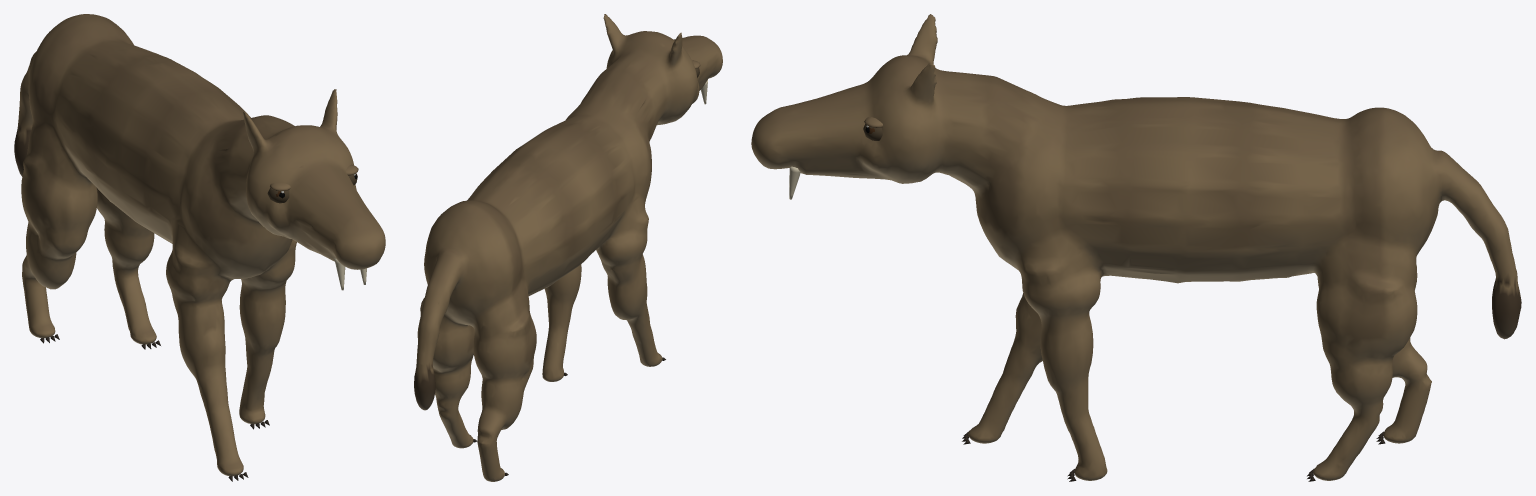
The model's file is EpicyonHaydeni.fbx.
3 renders of one model, left to right at view 1: azimuth 30°, elevation 25°; view 2: azimuth 150°, elevation 25°; view 3: azimuth 270°, elevation 25°, orthographic. The views are drawn at different scales.
Visible parts, largest first — view 1: EpicyonHaydeni; view 2: EpicyonHaydeni; view 3: EpicyonHaydeni.
Part boxes in pixels (x1,y1,x2,y2): EpicyonHaydeni: [14, 14, 385, 481]; EpicyonHaydeni: [414, 14, 722, 481]; EpicyonHaydeni: [751, 14, 1521, 481].
Size of the model in its own units: 0.3792 by 1.11 by 1.84.
